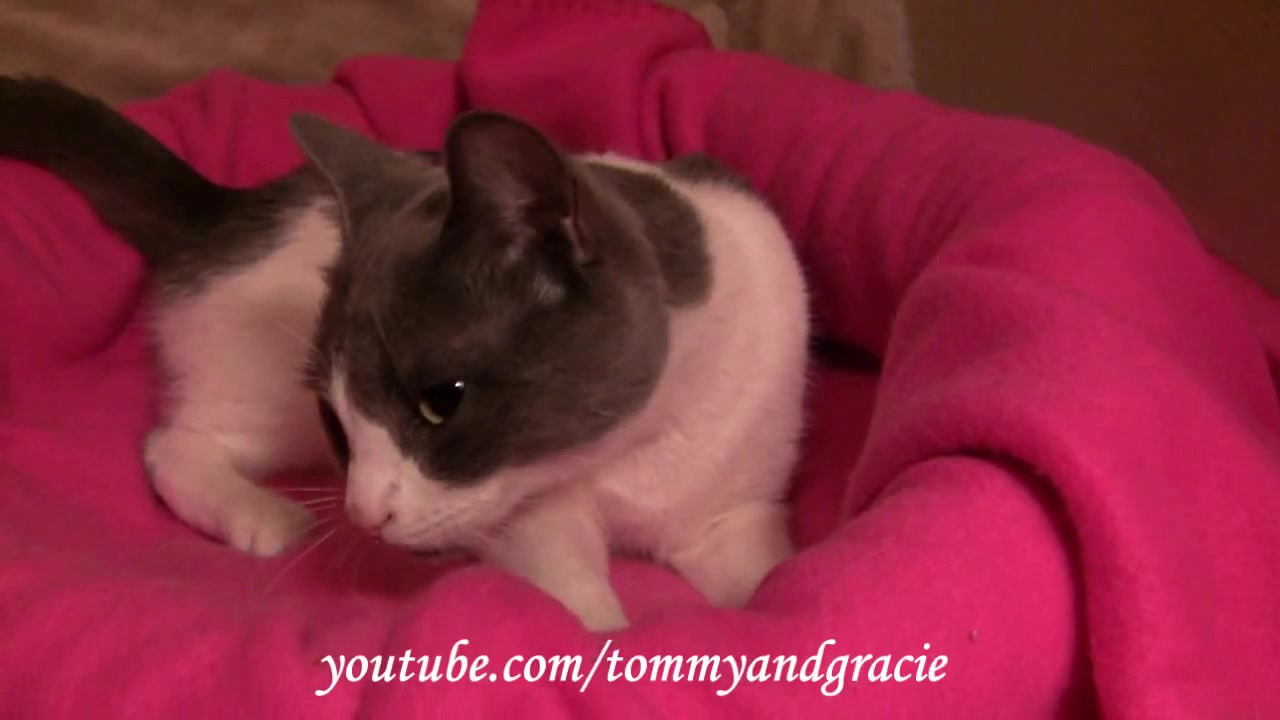cat: (5, 55, 813, 618)
